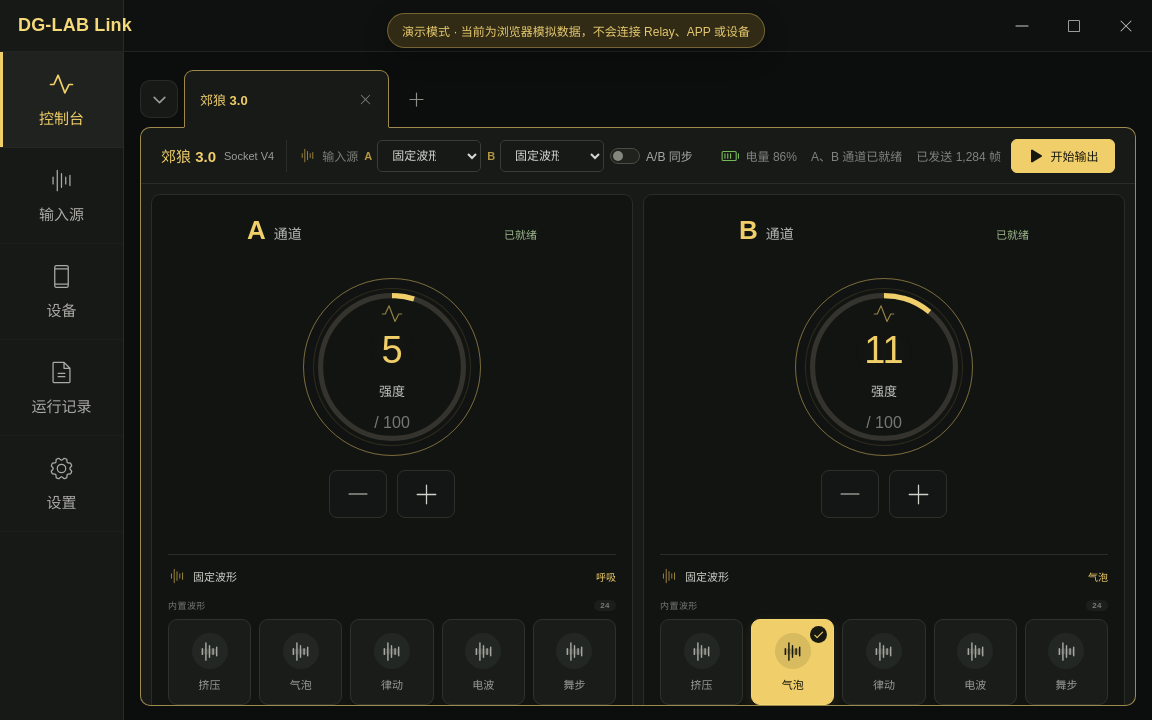
Test: DG-LAB Link 前端 › 可以从标签页列表搜索并切换标签页
Click the button named "新建标签页".
click(416, 99)  # box [397,80,435,118]
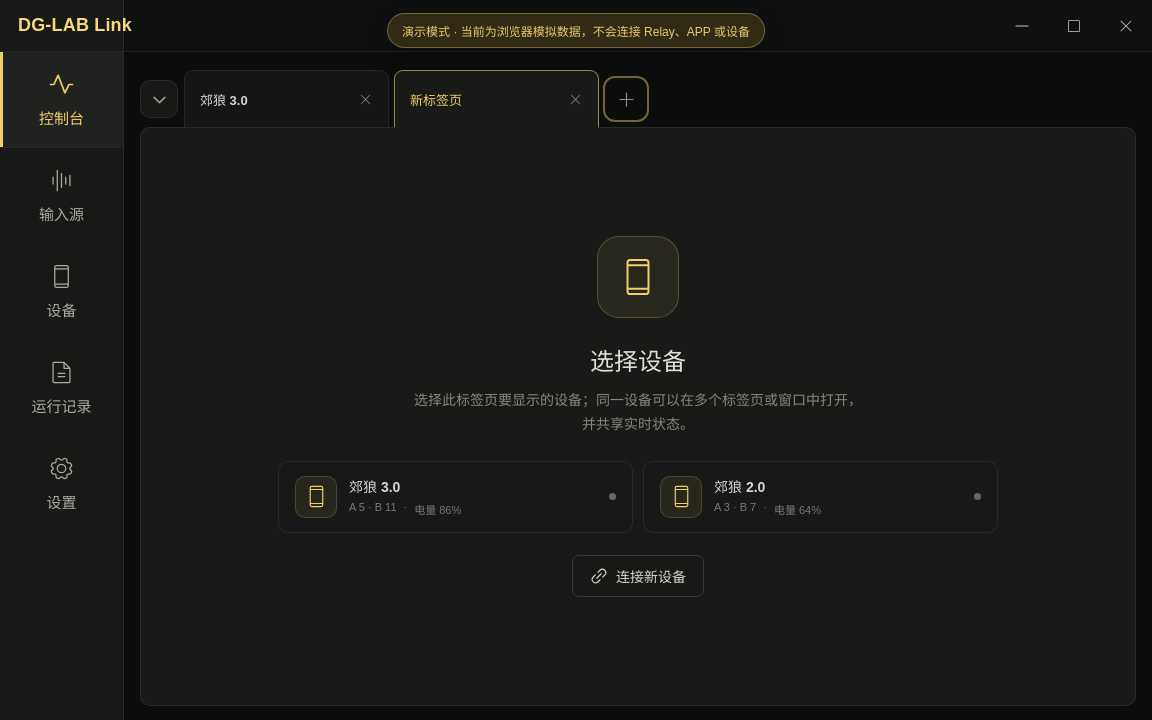
Result: the tab "郊狼 3.0" is not selected at [185,71,350,127]
Click the button named "搜索标签页".
click(159, 99)  # box [140,80,178,118]
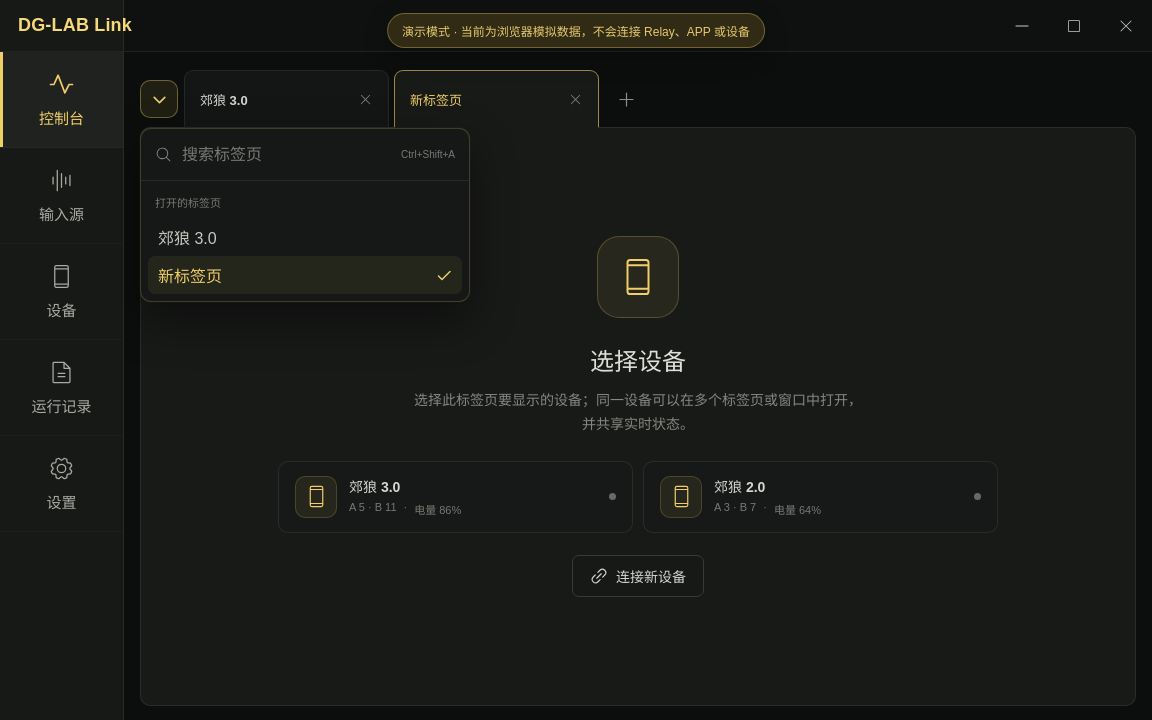
Type "郊狼" into the search field named "搜索标签页".
click(287, 154); type("郊狼")  # box [182,146,391,164]
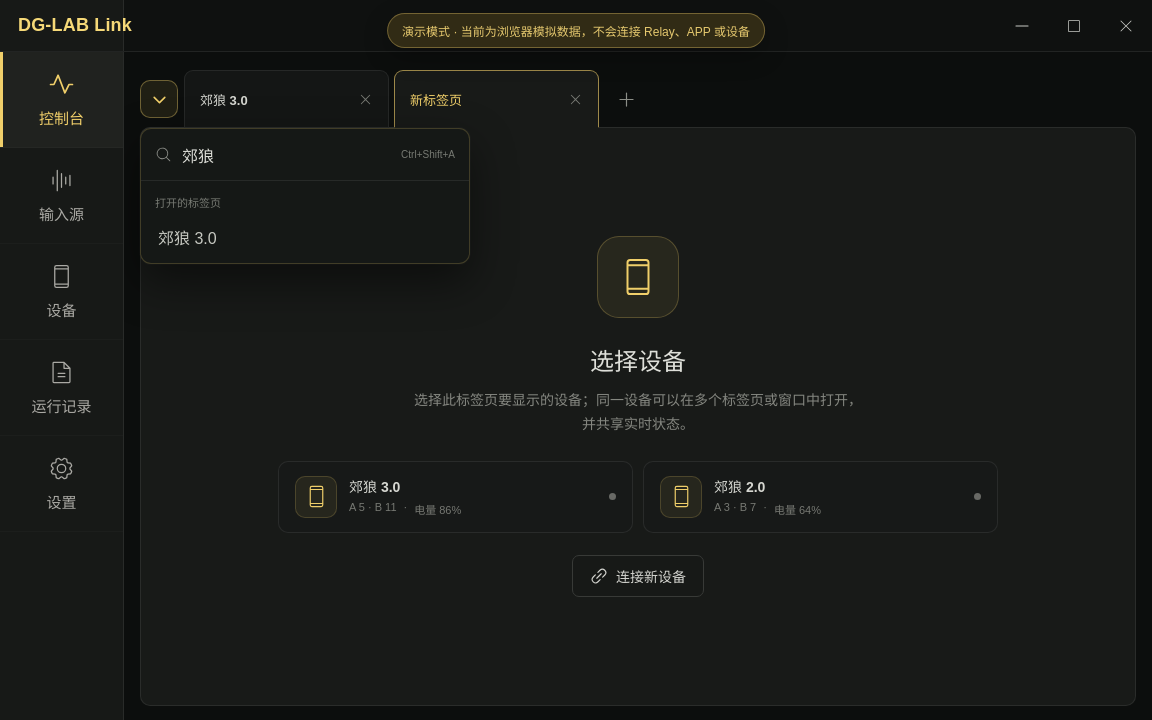
Result: the button "切换到标签页：新标签页" is gone
Click the button with aria-label "切换到标签页：郊狼 3.0".
click(187, 238)  # box [148,218,462,256]
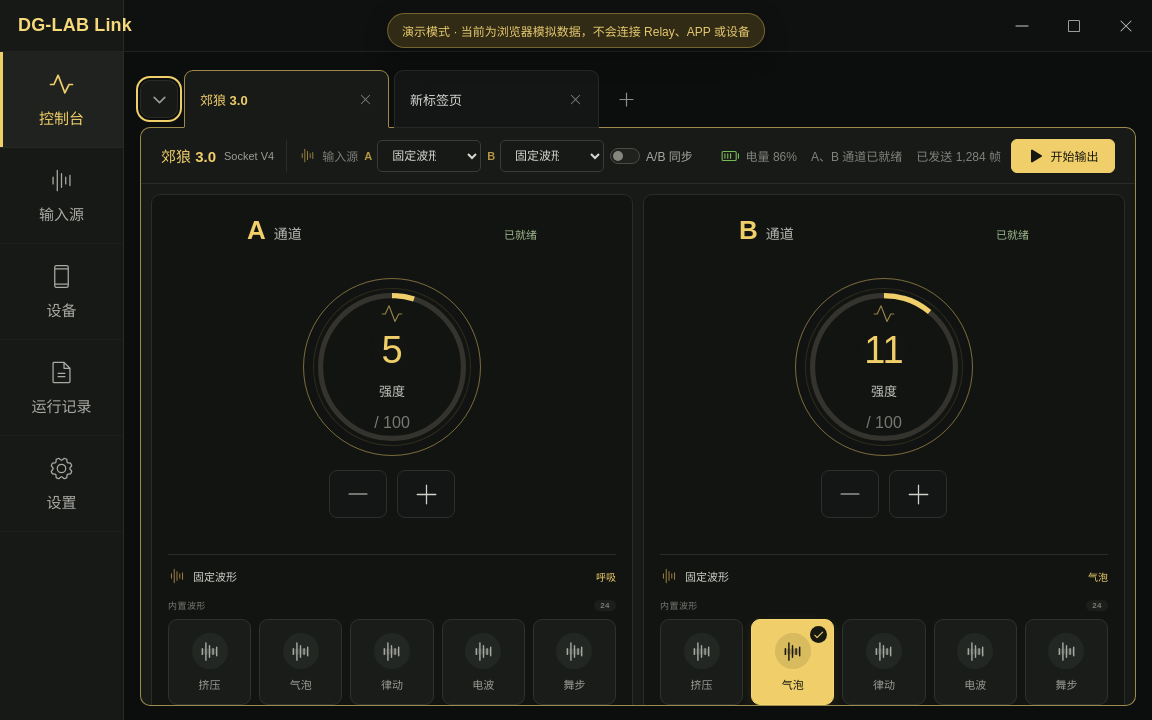
Result: the dialog "标签页列表" is gone
